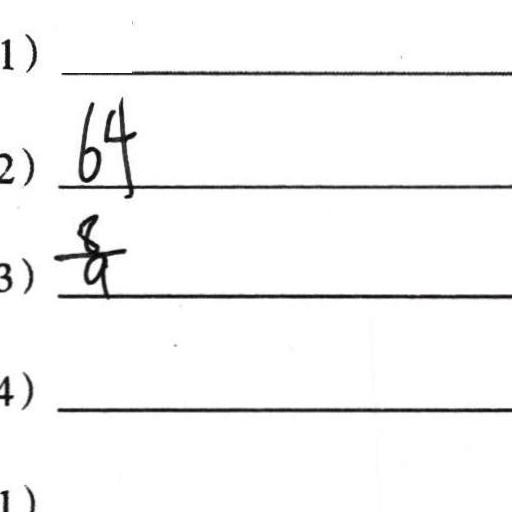ans: (68, 91, 139, 195), (52, 211, 127, 293)
